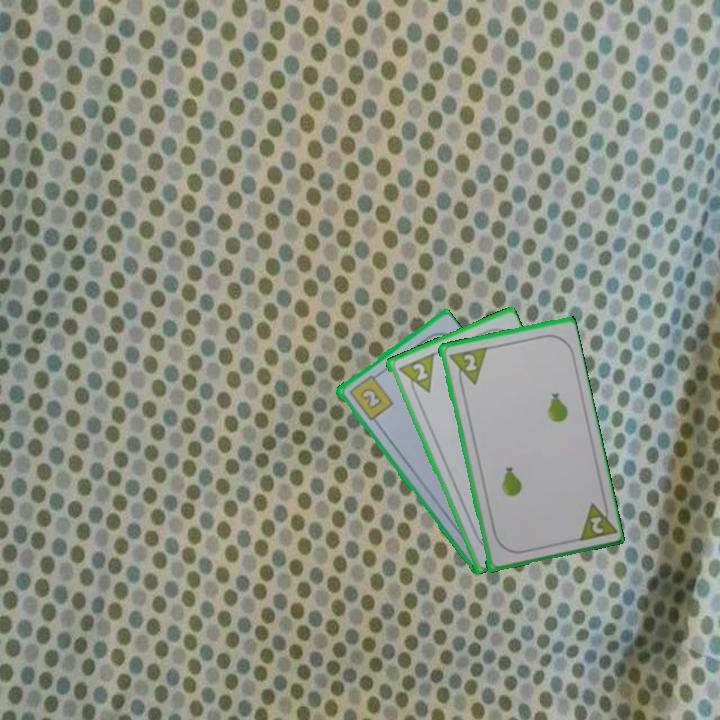2b: (345, 370, 396, 423)
2p: (393, 350, 437, 400), (573, 496, 617, 544), (445, 343, 489, 390)
